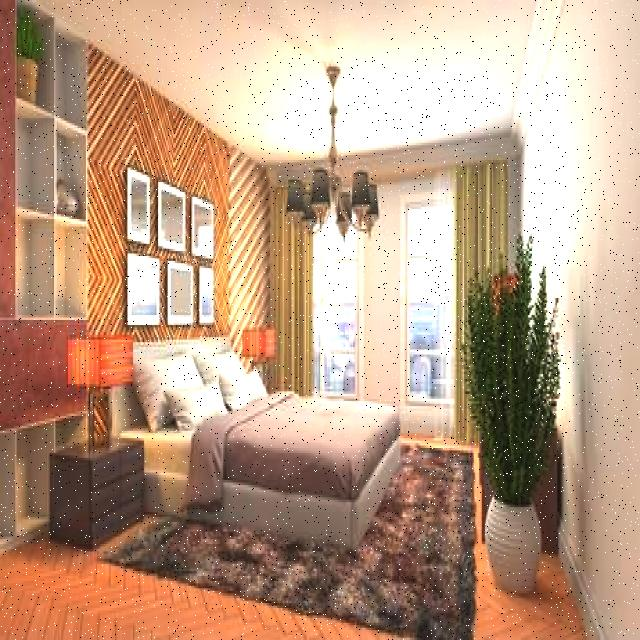bed: (132, 340, 358, 535)
